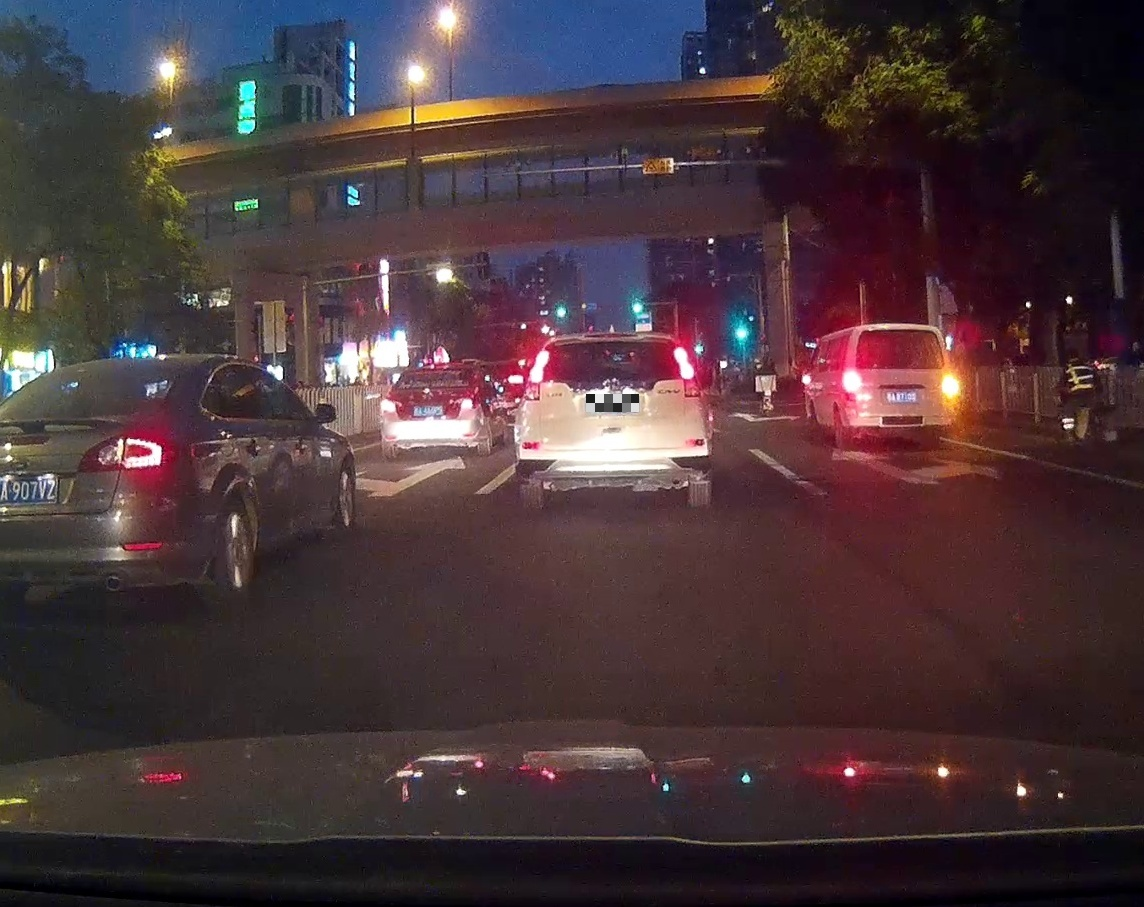L_light: (523, 348, 550, 401), (843, 369, 860, 401), (380, 399, 397, 413)
R_light: (673, 346, 701, 398), (941, 370, 957, 402), (458, 398, 475, 409)
T_light: (603, 341, 630, 351), (892, 330, 912, 336), (432, 370, 449, 377)
night-no: (514, 333, 713, 508), (381, 363, 477, 458)
night-right: (841, 323, 960, 450)
plate_1: (586, 394, 639, 412)
